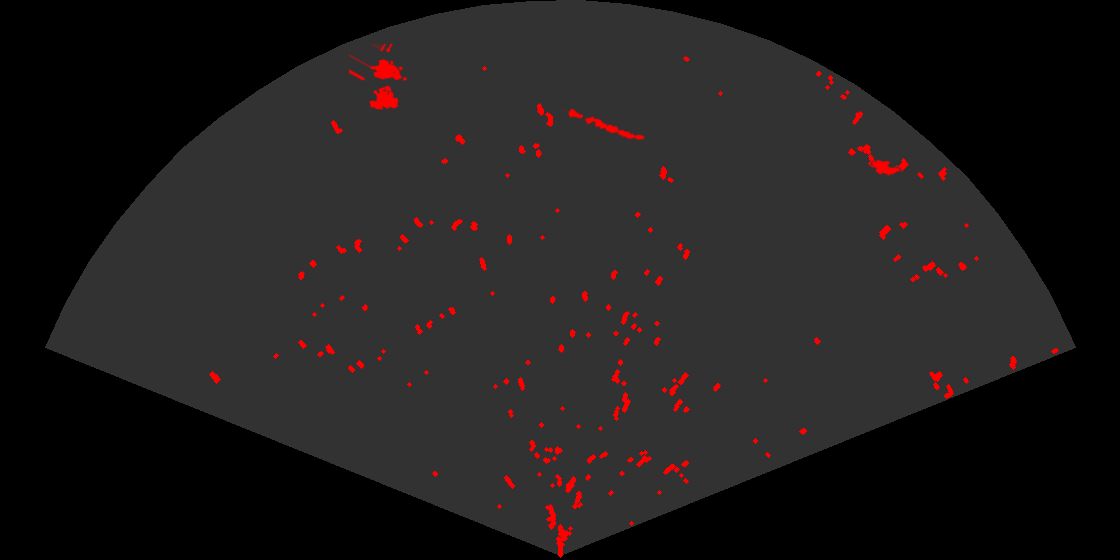AUV: (870, 158, 902, 176)
cage: (349, 44, 409, 111)
chain: (561, 107, 647, 142)
